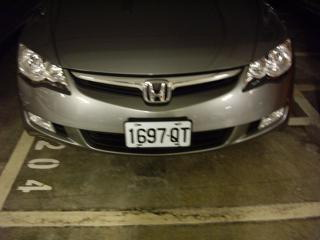plate: (121, 121, 195, 148)
